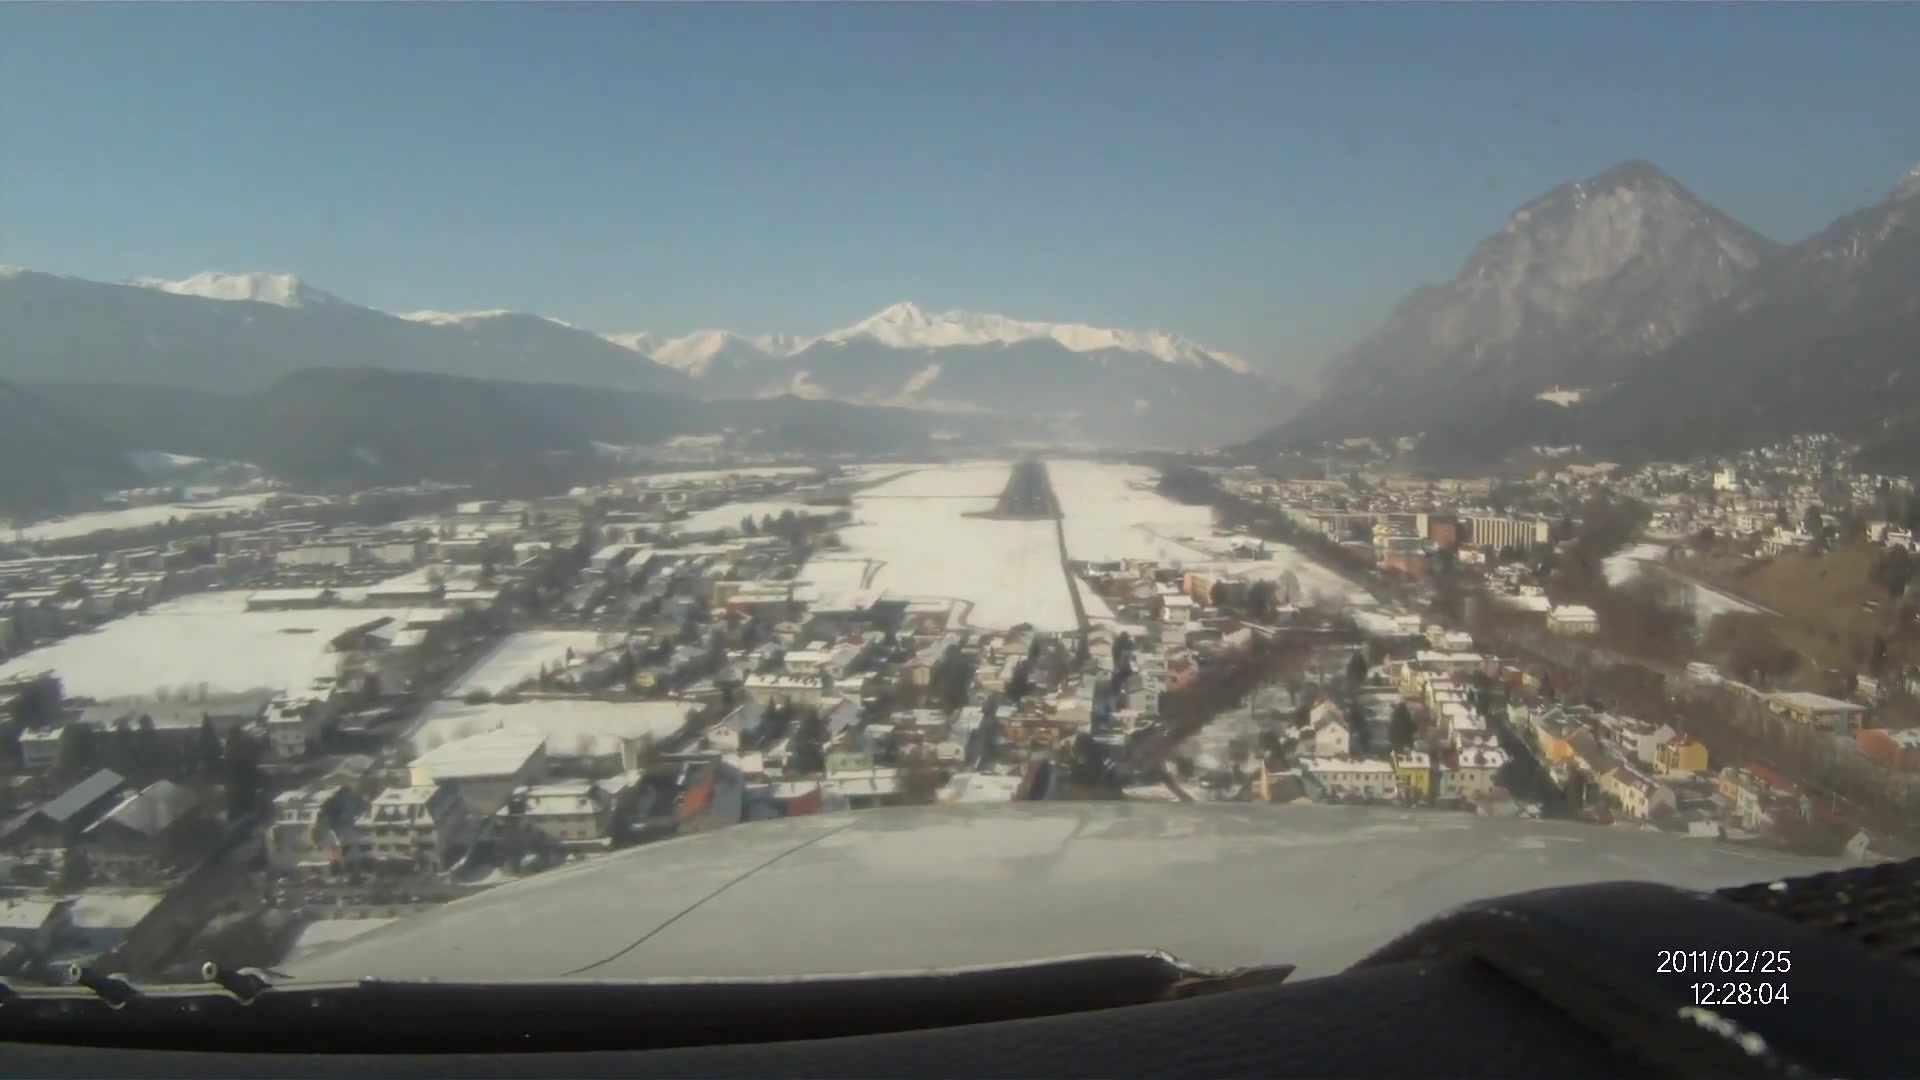runway: (1005, 460, 1047, 518)
